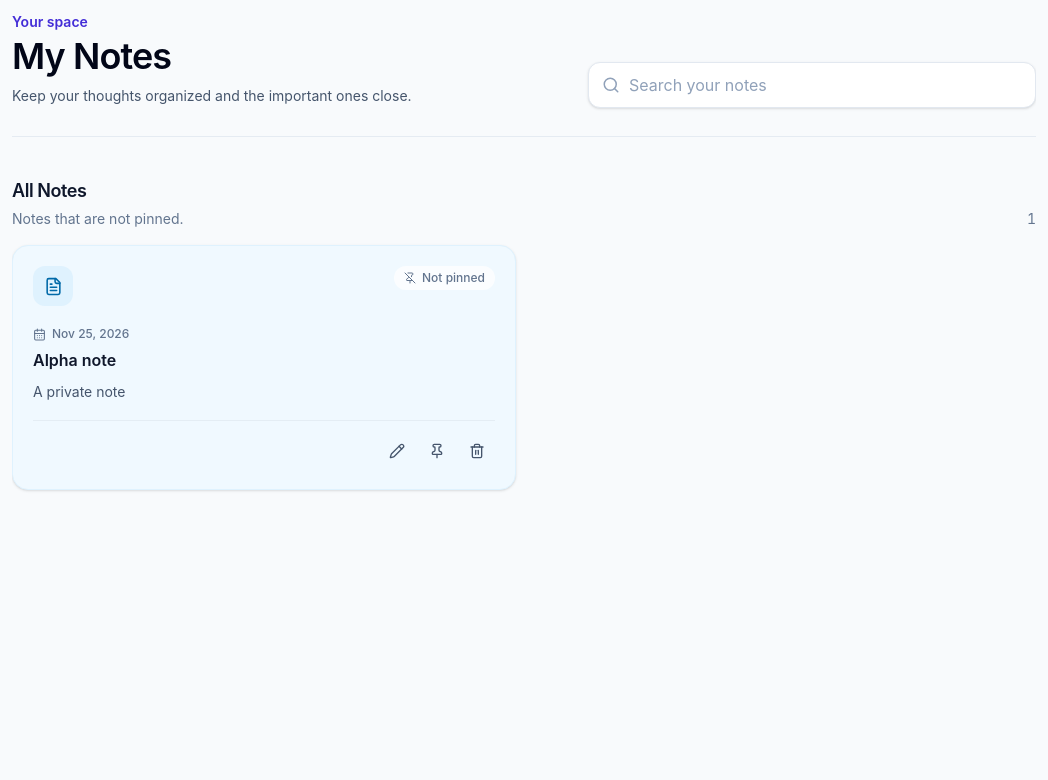
Dashboard › leaves the note unchanged and reports a failed pin mutation
Click the button named "Pin note: Alpha note": (437, 451) [419, 433, 455, 469]
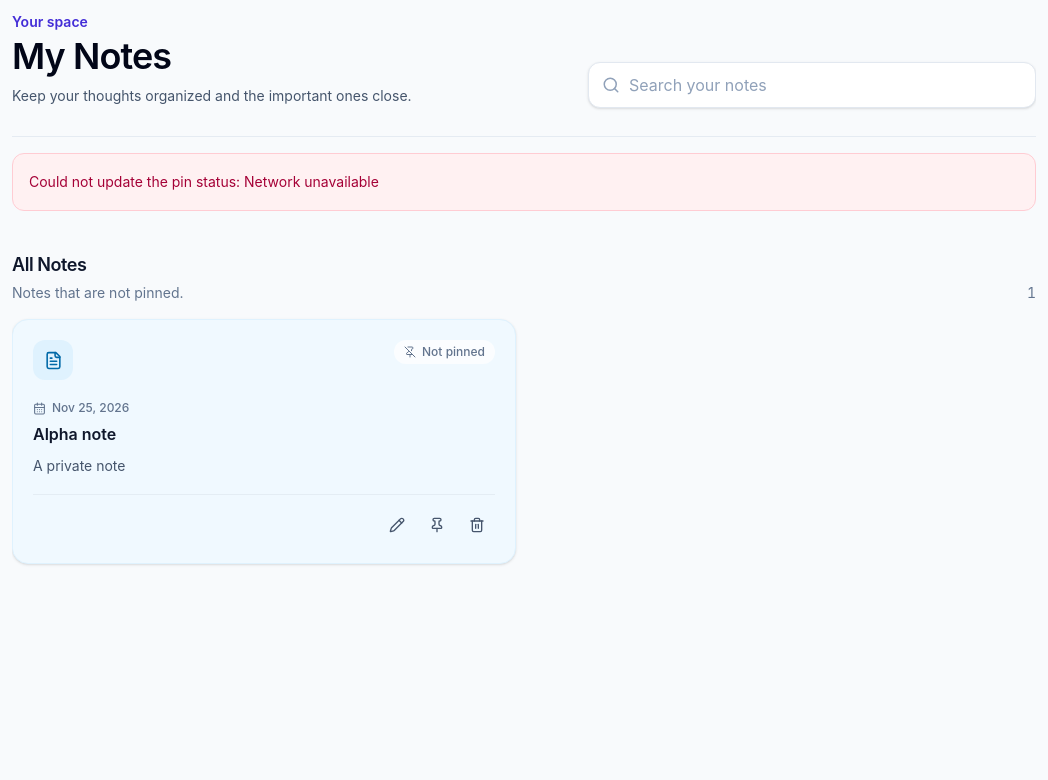
Expected: the button named "Pin note: Alpha note" is enabled, [419, 507, 455, 543]
Now the message reads "Could not update the pin status: Network unavailable", box [29, 173, 379, 190]
